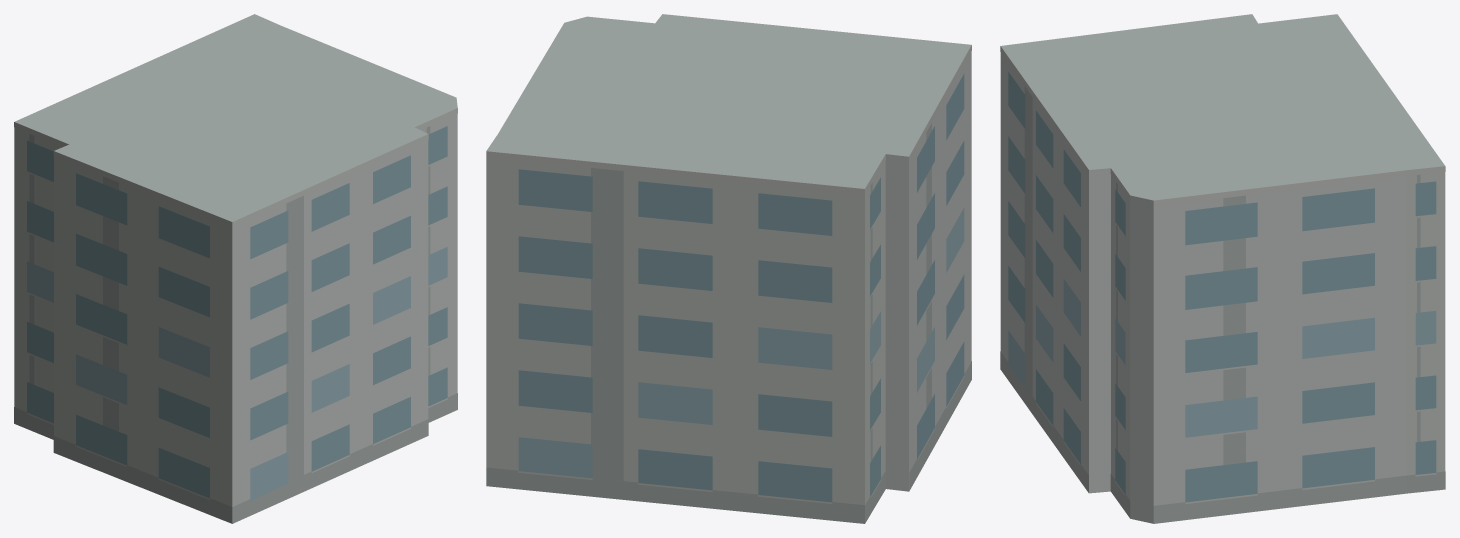
File: survey-upis-33009826.glb
The picture shows the model from 3 angles, left to right: view 1: azimuth 30°, elevation 25°; view 2: azimuth 150°, elevation 25°; view 3: azimuth 270°, elevation 25°; orthographic projection. The views are drawn at different scales.
Parts seen in each view (by area): view 1: survey-upis-33009826.tmp; view 2: survey-upis-33009826.tmp; view 3: survey-upis-33009826.tmp.
Part boxes in pixels (x1,y1,x2,y2): survey-upis-33009826.tmp: (14, 14, 457, 523); survey-upis-33009826.tmp: (486, 14, 971, 523); survey-upis-33009826.tmp: (1000, 14, 1445, 523).
Size of the model in its own units: 16.28 by 13.15 by 16.41.
